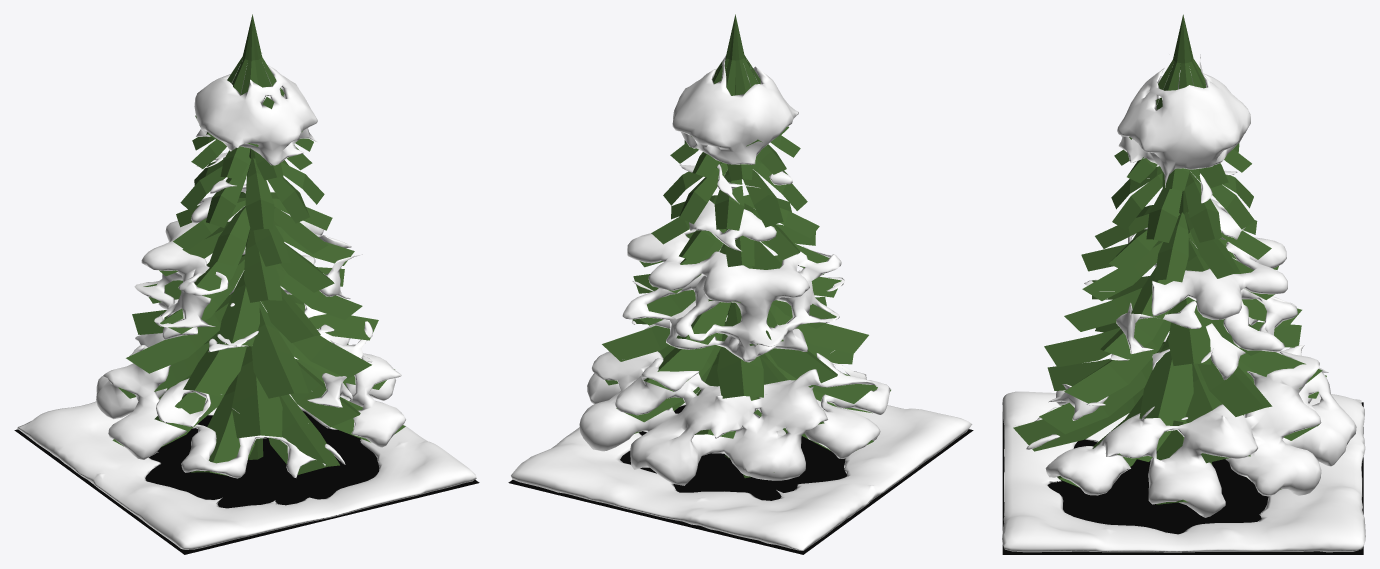
Rendered from Tree_S5P4.glb.
3 renders of one model, left to right at view 1: azimuth 30°, elevation 25°; view 2: azimuth 150°, elevation 25°; view 3: azimuth 270°, elevation 25°, orthographic. The views are drawn at different scales.
Parts seen in each view (by area): view 1: SnowMesh, Fir_Tree, Plane; view 2: SnowMesh, Fir_Tree, Plane; view 3: SnowMesh, Fir_Tree, Plane.
Boxes of the visible parts, <box> form: SnowMesh: <box>17,53,476,549</box>; Fir_Tree: <box>112,14,405,475</box>; Plane: <box>14,410,479,554</box>; SnowMesh: <box>511,56,972,550</box>; Fir_Tree: <box>602,14,890,478</box>; Plane: <box>508,405,973,554</box>; SnowMesh: <box>1002,54,1365,552</box>; Fir_Tree: <box>1013,14,1326,504</box>; Plane: <box>1002,402,1363,554</box>.
Size of the model in its own units: 4.04 by 5.73 by 4.03.
